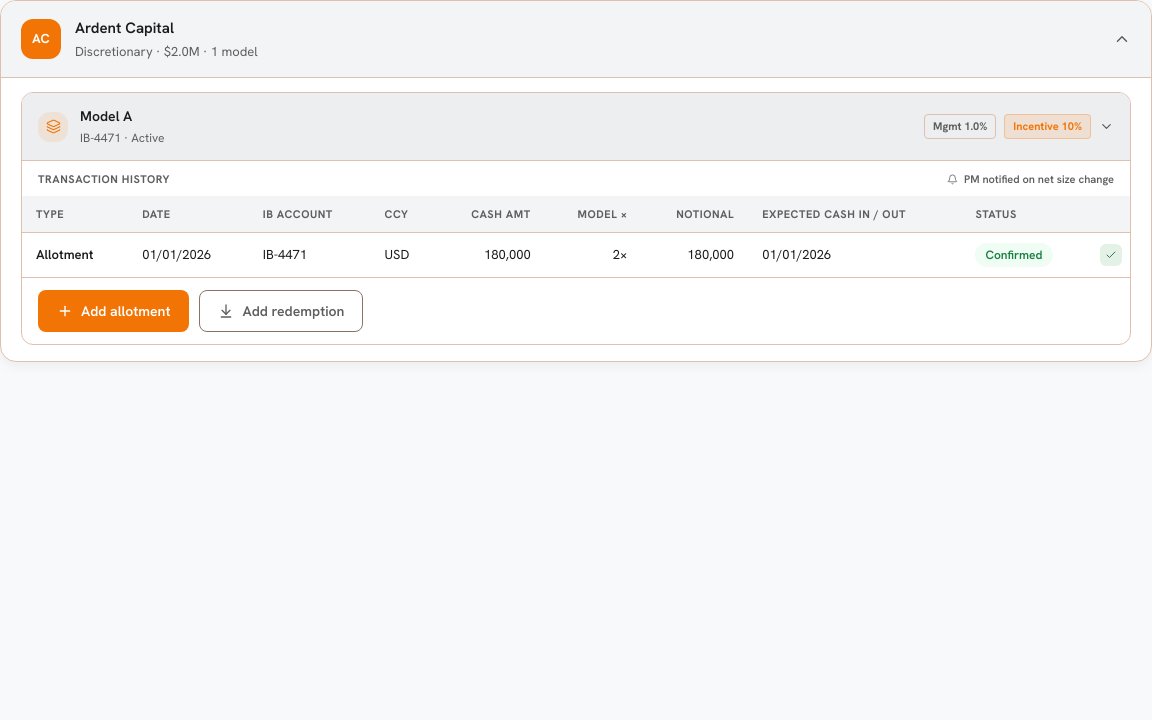
Test: FE-5 clicking an already-filed row opens view mode via getTransactionDetail › fetches and displays the exact previously-filed values as read-only text, no Save button
Click the text "IB-4471": (310, 255) x1=249 y1=232 x2=371 y2=277
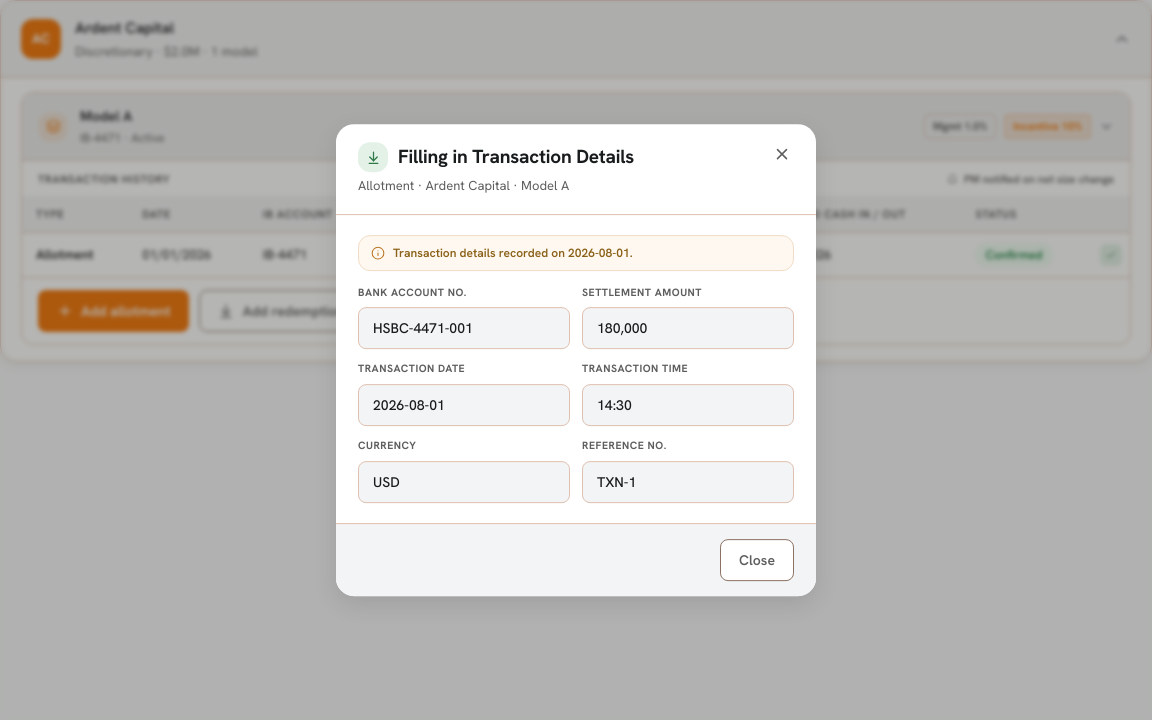
Result: the text "HSBC-4471-001" is shown at x1=358 y1=307 x2=570 y2=349
Result: the button "Close" is shown at x1=720 y1=539 x2=794 y2=581
